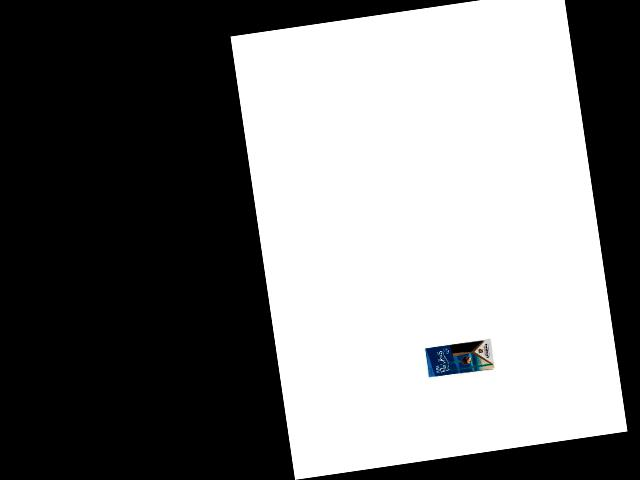chocolate: (423, 336, 496, 379)
